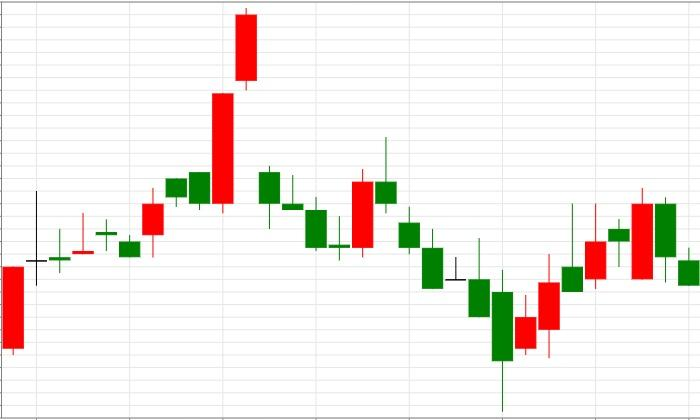morning_star_rise: (236, 8, 374, 261)
